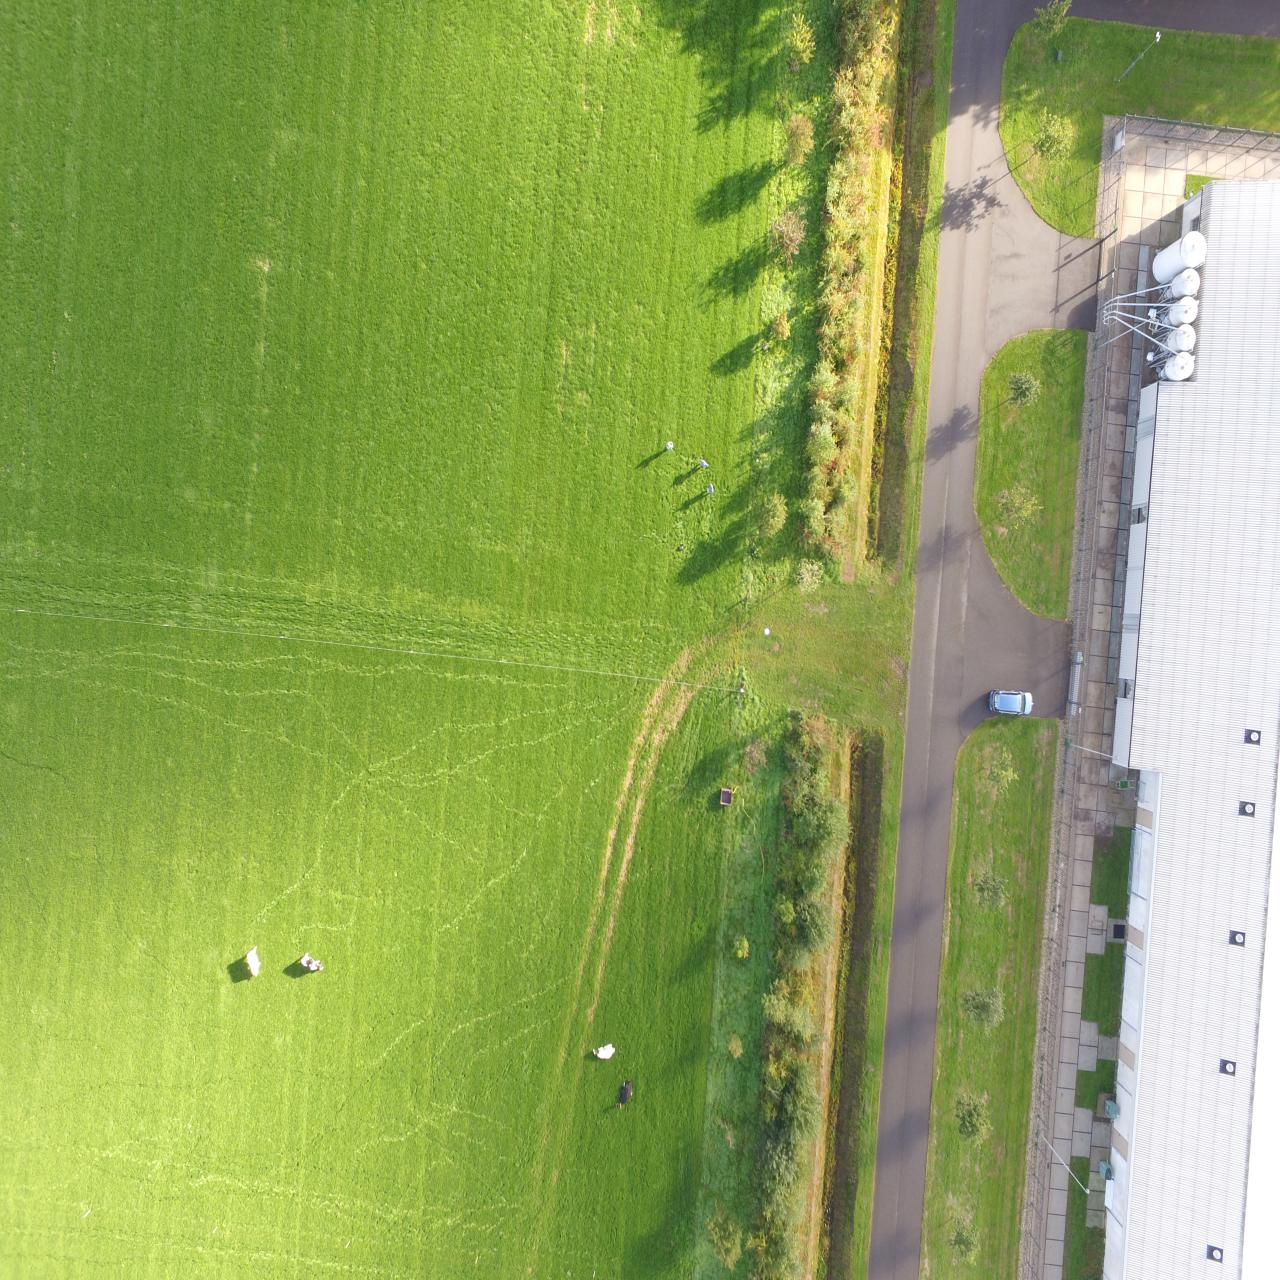cow: (240, 940, 268, 977), (300, 950, 324, 981), (615, 1078, 633, 1108), (592, 1043, 616, 1061)
